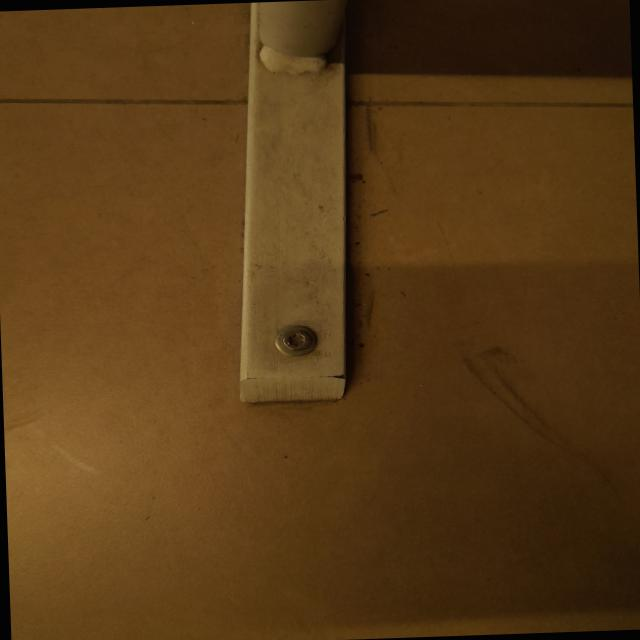Torx: (274, 323, 318, 356)
